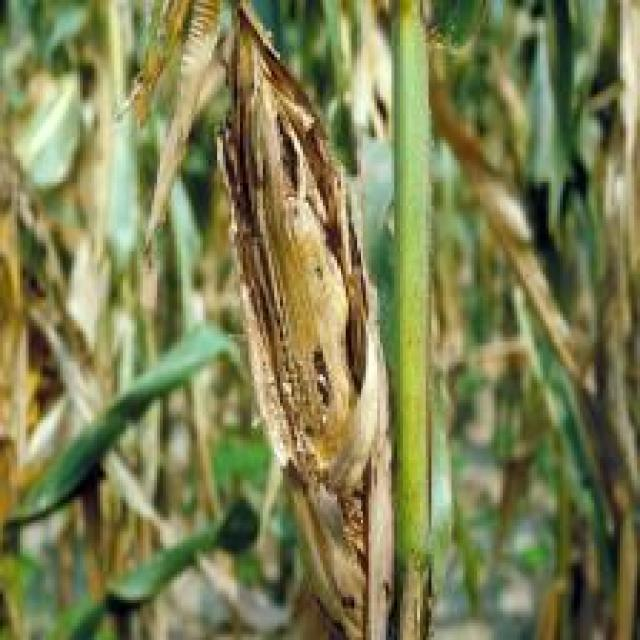Plaga: (304, 346, 344, 426), (280, 118, 308, 210), (286, 364, 303, 424)
